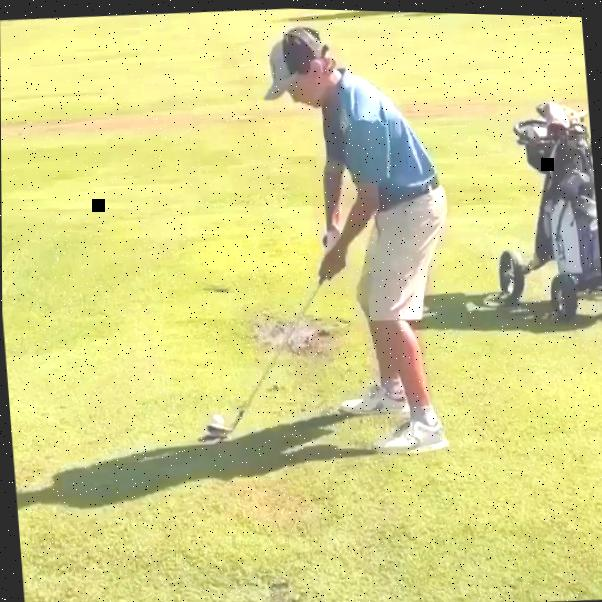ClubHead: (205, 422, 232, 436)
GolfBall: (210, 412, 224, 424)
